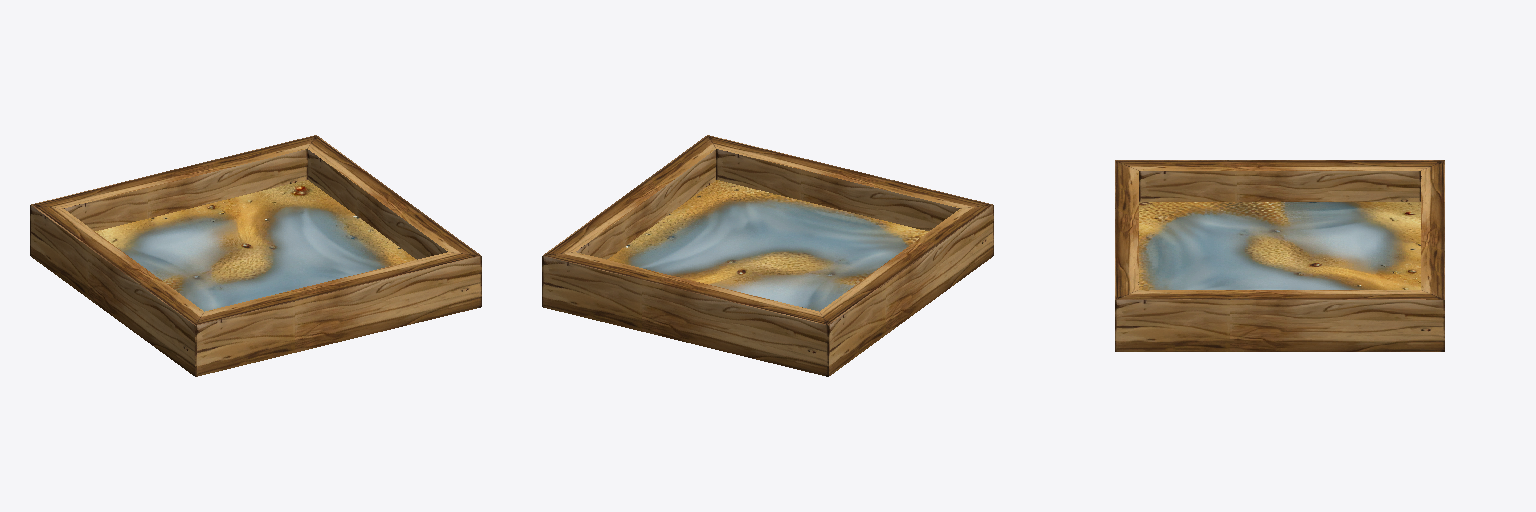
The picture shows the model from 3 angles: view 1: azimuth 30°, elevation 25°; view 2: azimuth 150°, elevation 25°; view 3: azimuth 270°, elevation 25°; orthographic projection.
Visible parts, largest first — view 1: miningsifter02; view 2: miningsifter02; view 3: miningsifter02.
Part boxes in pixels (left/top/right/bottom): miningsifter02: left=30, top=135, right=481, bottom=376; miningsifter02: left=542, top=135, right=993, bottom=376; miningsifter02: left=1115, top=160, right=1444, bottom=351.
Size of the model in its own units: 1.51 by 0.2587 by 1.51.
2 materials, 2 textured.